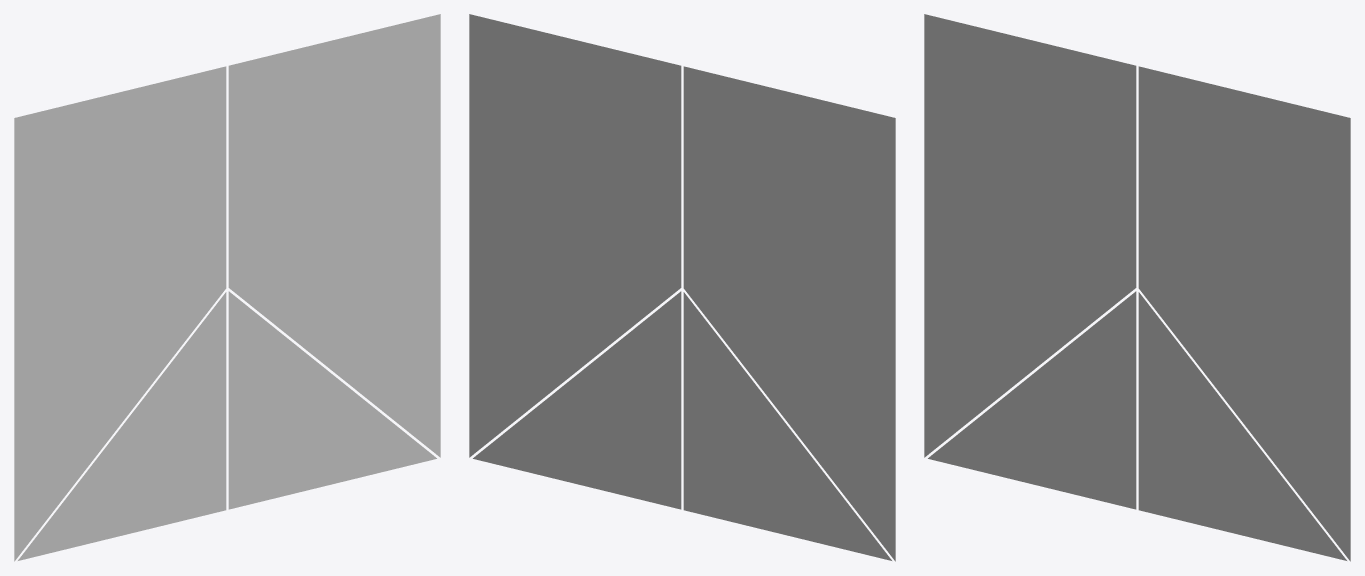
File: vernazzalarge.gltf
3 views of the same model, side by side, from view 1: azimuth 30°, elevation 25°; view 2: azimuth 150°, elevation 25°; view 3: azimuth 330°, elevation 25° (orthographic).
Parts seen in each view (by area): view 1: vernaza; view 2: vernaza; view 3: vernaza.
Part boxes in pixels (x1,y1,x2,y2): vernaza: (14, 14, 440, 561); vernaza: (469, 14, 895, 561); vernaza: (924, 14, 1350, 561).
Bounding box in the file's own units: 306 × 305 × 0.
4 materials, 4 textured.
